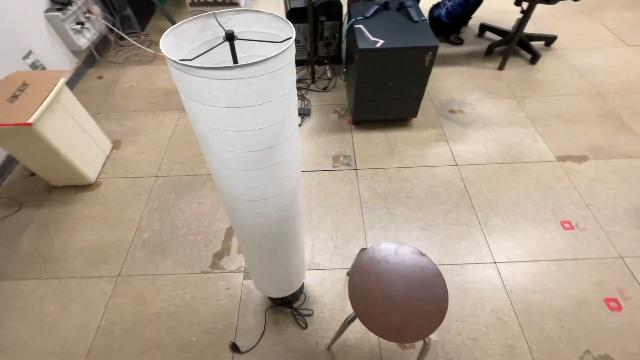Lamp: (154, 5, 310, 312)
Stool: (324, 241, 454, 360)
